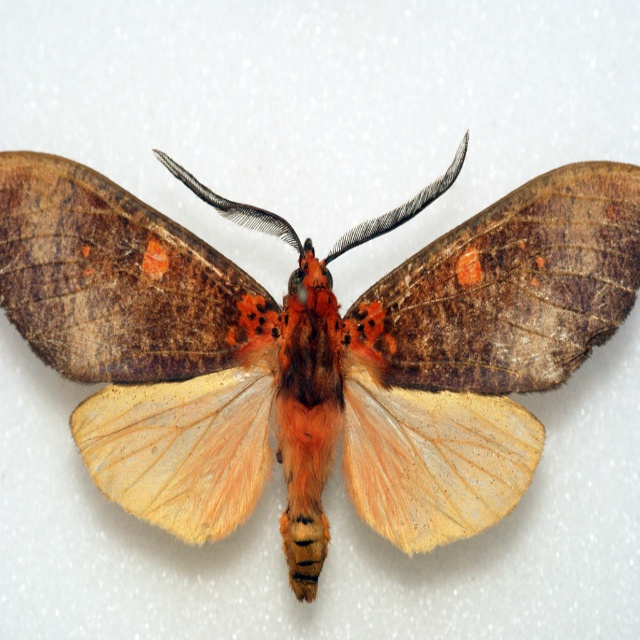Butterfly: (0, 128, 639, 599)
